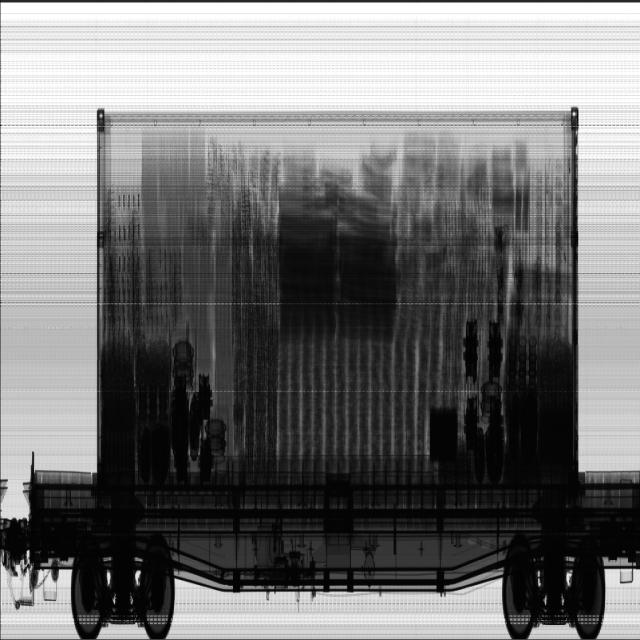auto parts: (429, 321, 506, 484)
fabrics: (278, 149, 400, 342)
textiles: (404, 136, 528, 235)
